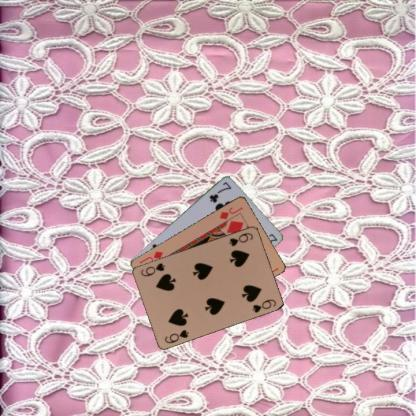6s: (226, 230, 254, 248), (162, 326, 190, 344)
7c: (207, 180, 232, 204)
Jd: (217, 204, 244, 220)
